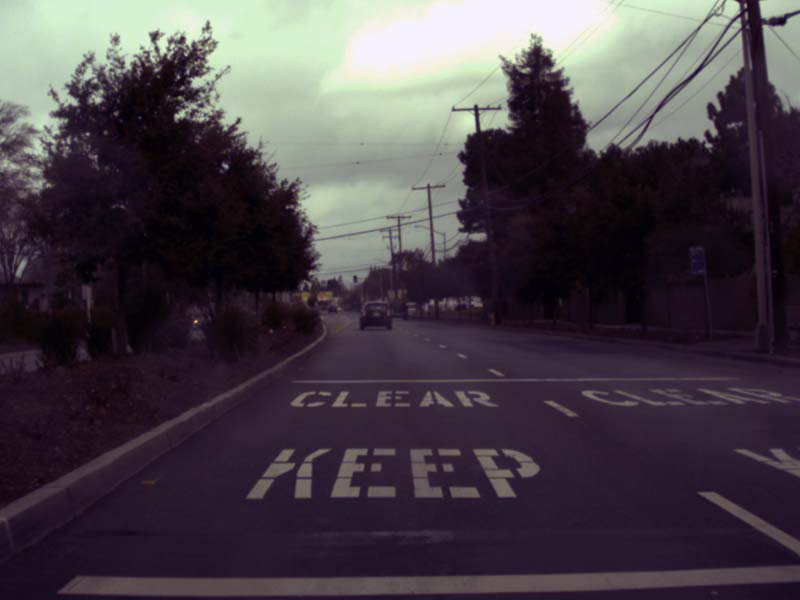Green: (381, 293, 386, 304), (353, 275, 357, 283), (327, 279, 330, 287)
